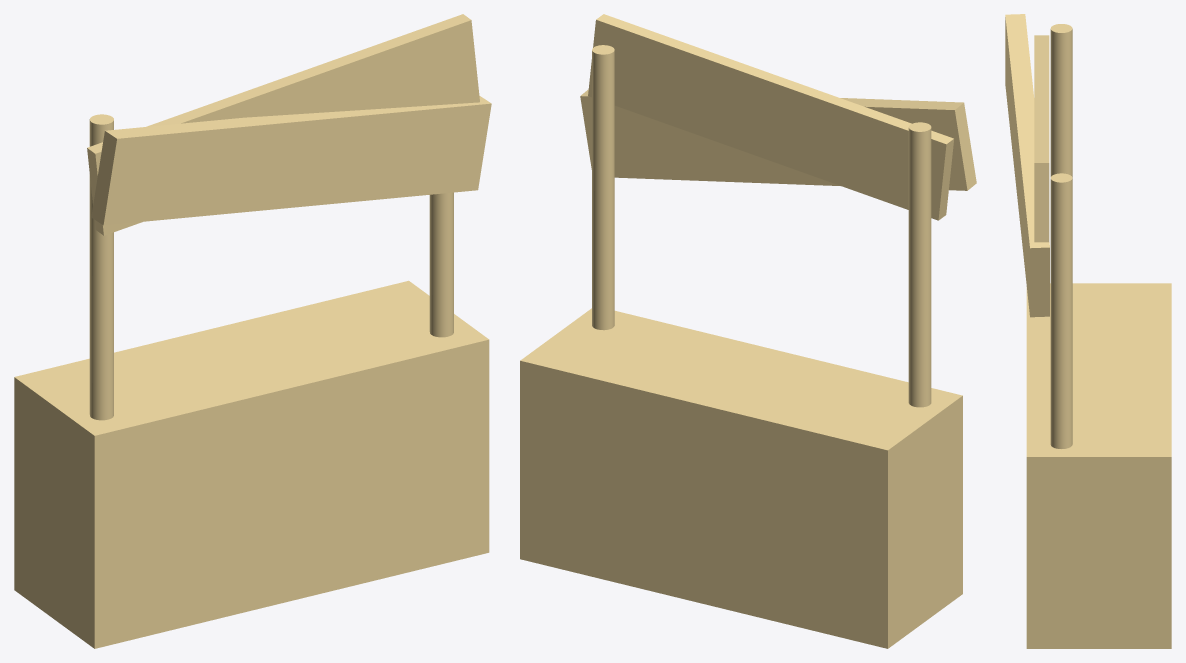
The model's file is shop stall.fbx.
The picture shows the model from 3 angles, left to right: view 1: azimuth 30°, elevation 25°; view 2: azimuth 150°, elevation 25°; view 3: azimuth 270°, elevation 25°; orthographic projection. The views are drawn at different scales.
Parts seen in each view (by area): view 1: Stall; view 2: Stall; view 3: Stall.
Part boxes in pixels (x1,y1,x2,y2): Stall: (14, 14, 491, 648); Stall: (520, 14, 976, 648); Stall: (1005, 14, 1171, 648).
Size of the model in its own units: 186 by 235 by 73.9.
